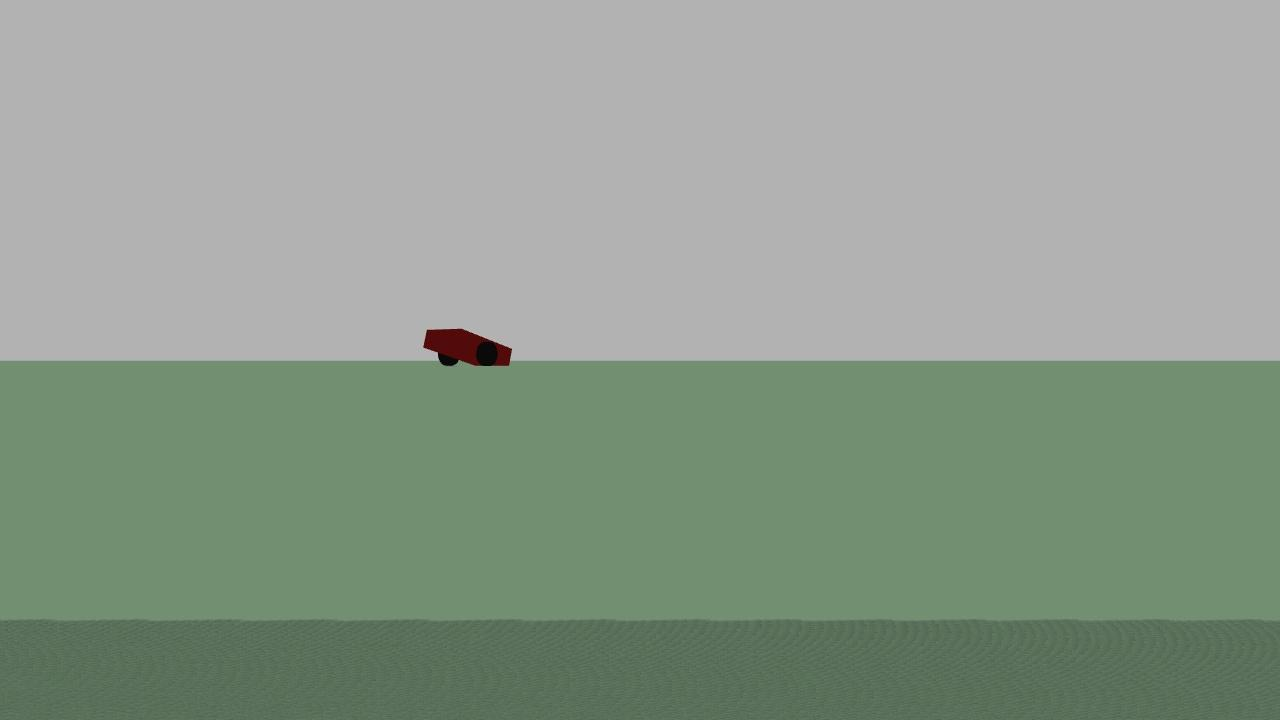ground_vehicle: (419, 320, 516, 376)
